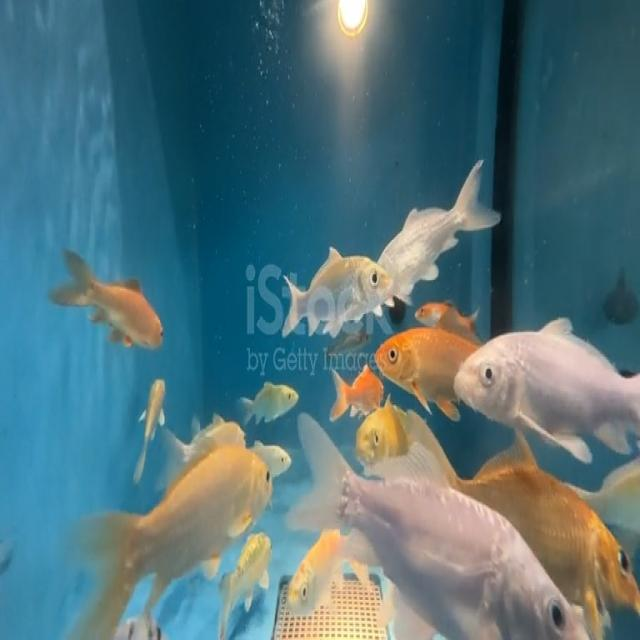fish: (294, 416, 583, 640), (55, 413, 288, 624), (450, 310, 640, 460), (521, 466, 640, 614), (46, 233, 176, 368), (380, 157, 510, 256), (275, 508, 363, 632), (281, 234, 397, 326), (210, 526, 278, 640), (366, 327, 454, 411), (130, 358, 173, 481), (348, 385, 400, 470), (326, 353, 388, 422), (178, 401, 248, 456), (236, 371, 300, 422), (408, 286, 473, 330), (258, 443, 293, 474)
